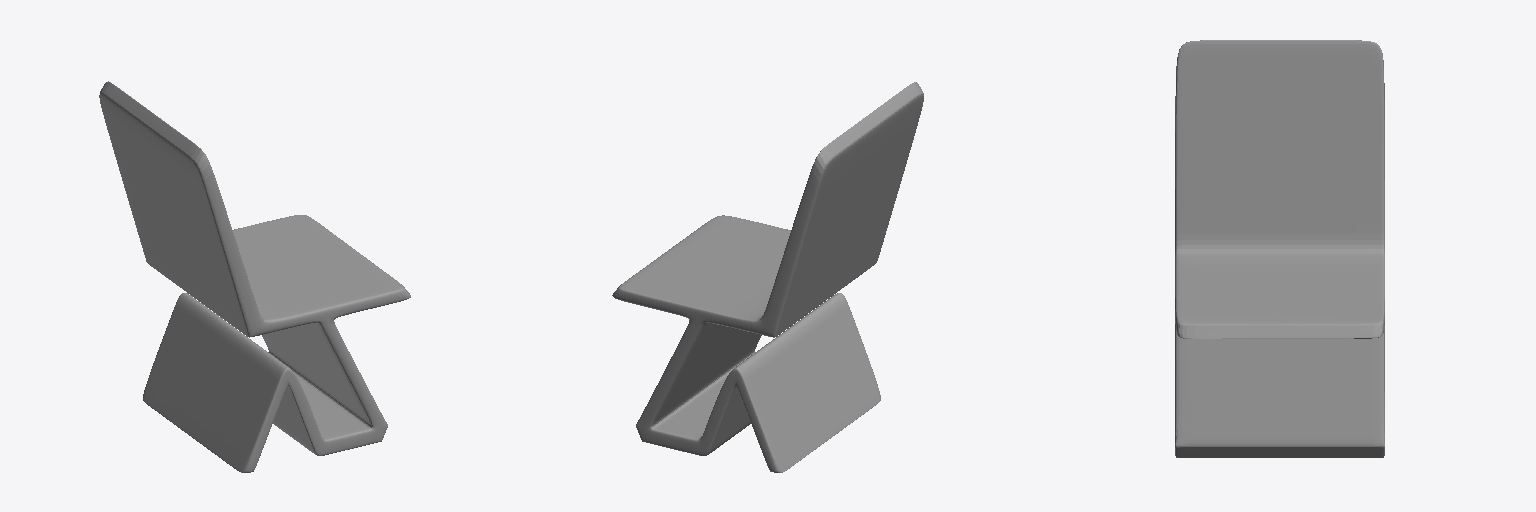
Rendered from DesignChair1.obj.
3 views of the same model, side by side, from view 1: azimuth 30°, elevation 25°; view 2: azimuth 150°, elevation 25°; view 3: azimuth 270°, elevation 25° (orthographic).
Visible parts, largest first — view 1: Plane; view 2: Plane; view 3: Plane.
Part boxes in pixels (x1,y1,x2,y2): Plane: (99,81,410,472); Plane: (612,82,923,472); Plane: (1175,40,1384,457).
Bounding box in the file's own units: 2.37 × 3.48 × 2.